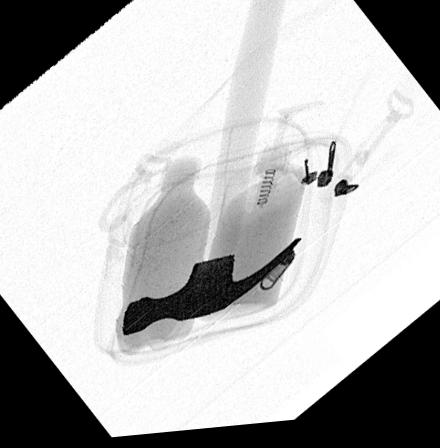Hammer: (119, 0, 303, 338)
